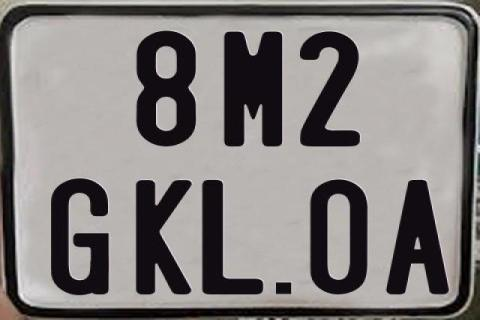0: (134, 29, 195, 149), (299, 29, 359, 149), (310, 179, 369, 299)
A: (385, 178, 453, 294)
G: (51, 176, 115, 295)
K: (133, 179, 192, 297)
L: (202, 180, 269, 299)
M: (222, 31, 285, 147)
